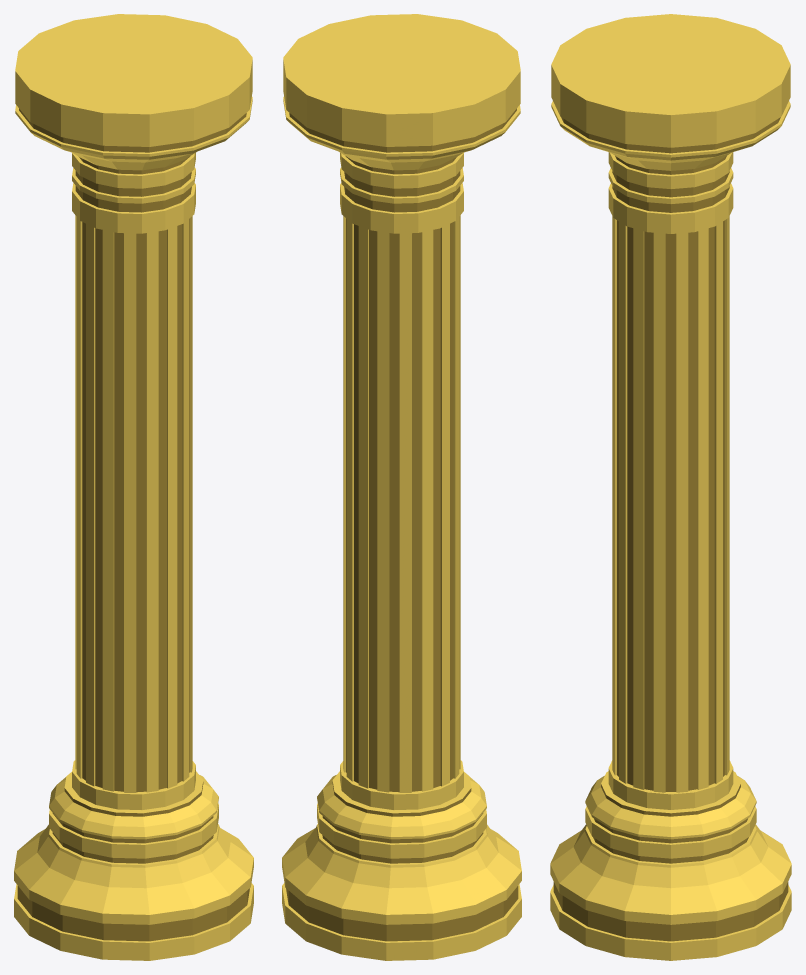
File: collum-mid.fbx
3 views of the same model, side by side, from view 1: azimuth 30°, elevation 25°; view 2: azimuth 150°, elevation 25°; view 3: azimuth 270°, elevation 25° (orthographic).
Visible parts, largest first — view 1: Cylinder; view 2: Cylinder; view 3: Cylinder.
Part boxes in pixels (left/top/right/bottom): Cylinder: left=14, top=14, right=253, bottom=960; Cylinder: left=282, top=14, right=521, bottom=960; Cylinder: left=550, top=14, right=791, bottom=960.
Size of the model in its own units: 117 by 452 by 117.
